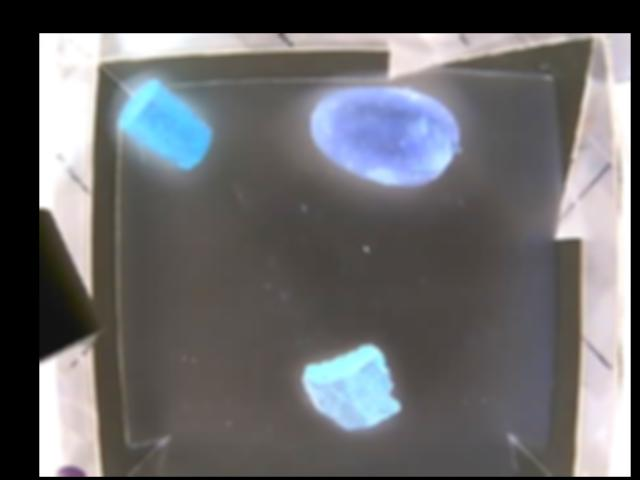Brisk: (301, 344, 403, 430)
Carrot: (120, 79, 213, 170)
Potato: (310, 88, 459, 188)
